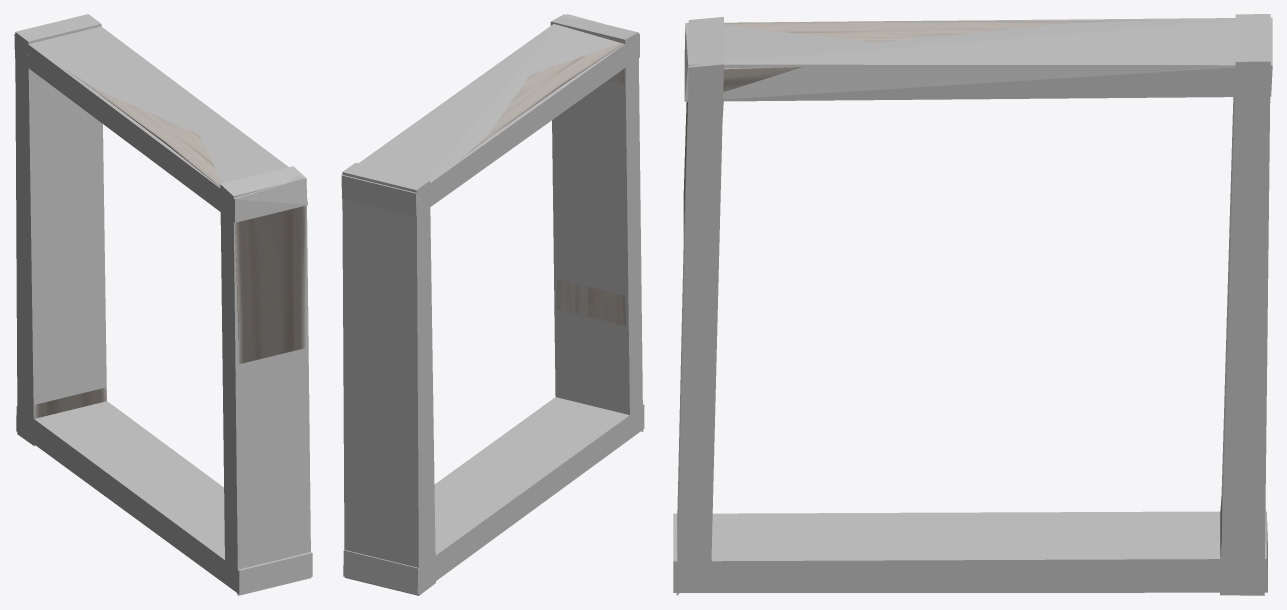
File: SM_PropWindow01TypeC_1_1.fbx
3 views of the same model, side by side, from view 1: azimuth 30°, elevation 25°; view 2: azimuth 150°, elevation 25°; view 3: azimuth 270°, elevation 25° (orthographic). The views are drawn at different scales.
Visible parts, largest first — view 1: SM_PropWindow01TypeC_1_1_ConvexHulls, SM_PropWindow01TypeC_1_1; view 2: SM_PropWindow01TypeC_1_1_ConvexHulls, SM_PropWindow01TypeC_1_1; view 3: SM_PropWindow01TypeC_1_1_ConvexHulls, SM_PropWindow01TypeC_1_1.
Boxes of the visible parts, x1=… form: SM_PropWindow01TypeC_1_1_ConvexHulls: x1=14, y1=14, x2=312, y2=595; SM_PropWindow01TypeC_1_1: x1=34, y1=67, x2=305, y2=418; SM_PropWindow01TypeC_1_1_ConvexHulls: x1=341, y1=14, x2=644, y2=595; SM_PropWindow01TypeC_1_1: x1=459, y1=43, x2=625, y2=325; SM_PropWindow01TypeC_1_1_ConvexHulls: x1=673, y1=14, x2=1272, y2=595; SM_PropWindow01TypeC_1_1: x1=683, y1=20, x2=1221, y2=558.
Bounding box in the file's own units: 30.87 × 164 × 162.
Materials: 2 (1 with a texture image).
